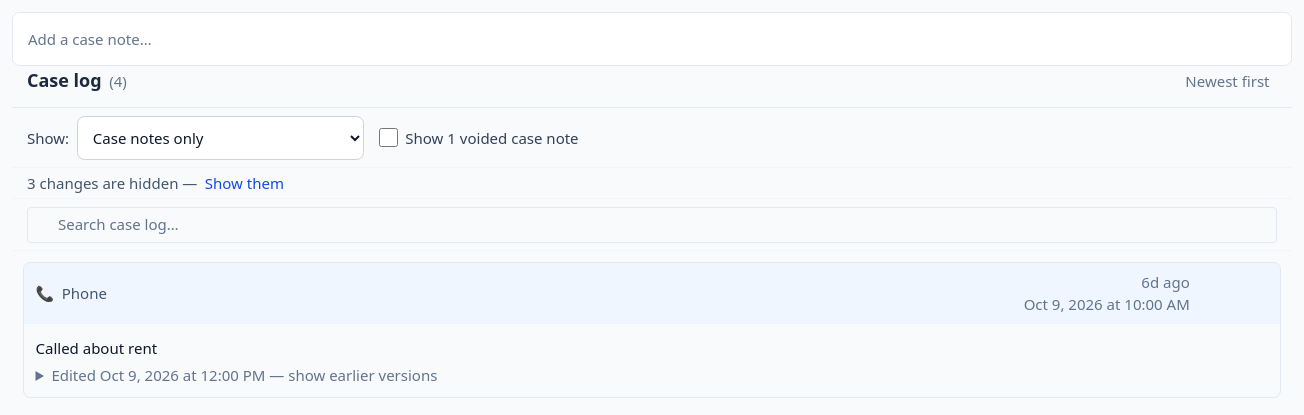
Test: one log › says how many changes the filter hides and shows them on request (C-01)
The image size is (1304, 415).
Expected: the text "3 changes are hidden —" is shown, [27,172,197,194]
Click the button "Show them": (244, 183) [205,172,284,194]
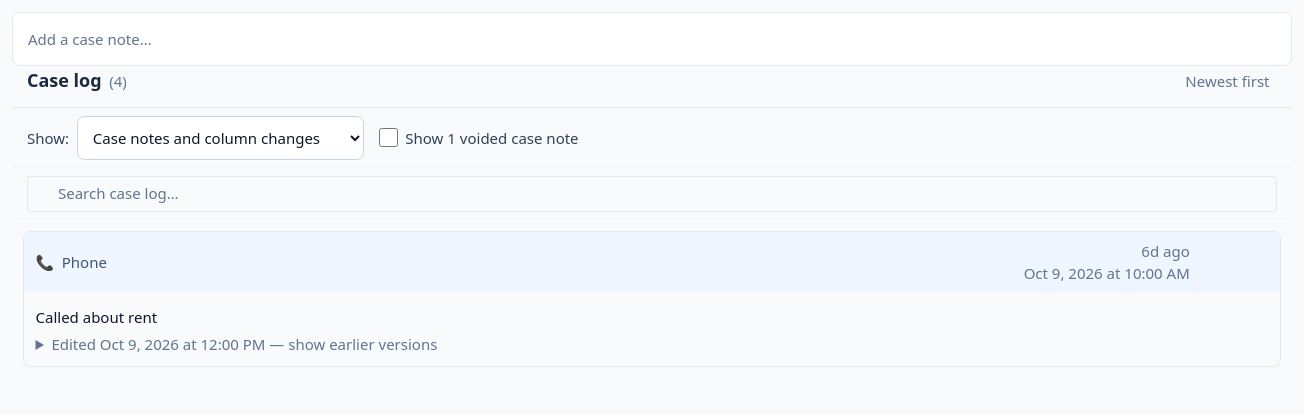
Now the dropdown named "What to show" shows "Case notes and column changes", box [77,116,364,160]
Now the text "3 changes are hidden —" is gone
